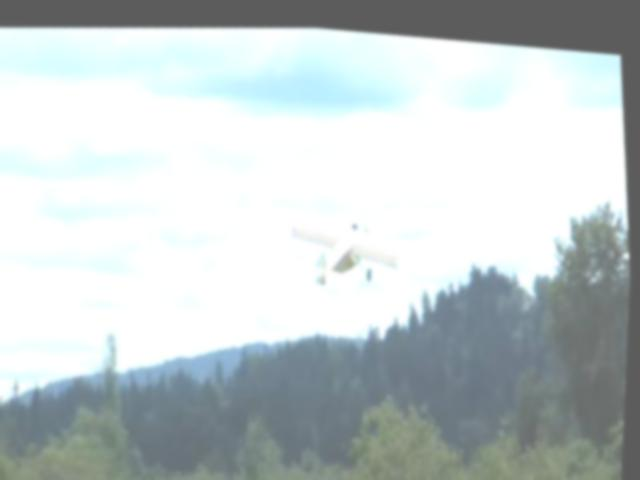uav: (238, 159, 459, 317)
